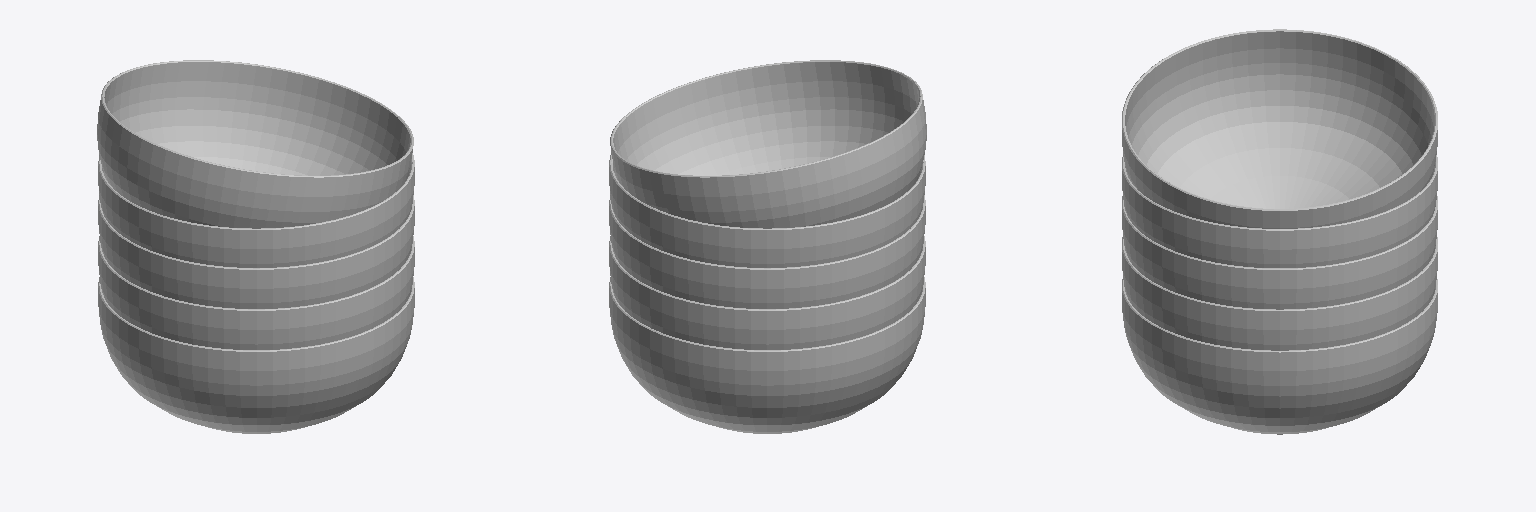
File: BLANDA Seving Bowl.obj
The picture shows the model from 3 angles: view 1: azimuth 30°, elevation 25°; view 2: azimuth 150°, elevation 25°; view 3: azimuth 270°, elevation 25°; orthographic projection.
Parts seen in each view (by area): view 1: BLANDA_Serving_Bowl01, BLANDA_Serving_Bowl04, BLANDA_Serving_Bowl03, BLANDA_Serving_Bowl02, BLANDA_Serving_Bowl; view 2: BLANDA_Serving_Bowl01, BLANDA_Serving_Bowl04, BLANDA_Serving_Bowl03, BLANDA_Serving_Bowl02, BLANDA_Serving_Bowl; view 3: BLANDA_Serving_Bowl01, BLANDA_Serving_Bowl04, BLANDA_Serving_Bowl03, BLANDA_Serving_Bowl02, BLANDA_Serving_Bowl.
Boxes of the visible parts, x1=… form: BLANDA_Serving_Bowl01: x1=97, y1=60, x2=413, y2=228; BLANDA_Serving_Bowl04: x1=98, y1=277, x2=414, y2=433; BLANDA_Serving_Bowl03: x1=98, y1=236, x2=414, y2=349; BLANDA_Serving_Bowl02: x1=98, y1=195, x2=414, y2=308; BLANDA_Serving_Bowl: x1=98, y1=153, x2=414, y2=267; BLANDA_Serving_Bowl01: x1=610, y1=60, x2=926, y2=228; BLANDA_Serving_Bowl04: x1=609, y1=277, x2=925, y2=433; BLANDA_Serving_Bowl03: x1=609, y1=236, x2=925, y2=349; BLANDA_Serving_Bowl02: x1=609, y1=195, x2=925, y2=308; BLANDA_Serving_Bowl: x1=609, y1=153, x2=925, y2=267; BLANDA_Serving_Bowl01: x1=1122, y1=29, x2=1437, y2=228; BLANDA_Serving_Bowl04: x1=1122, y1=279, x2=1437, y2=434; BLANDA_Serving_Bowl03: x1=1122, y1=237, x2=1437, y2=350; BLANDA_Serving_Bowl02: x1=1122, y1=196, x2=1437, y2=309; BLANDA_Serving_Bowl: x1=1122, y1=155, x2=1437, y2=267.
Size of the model in its own units: 28.11 by 31.63 by 28.